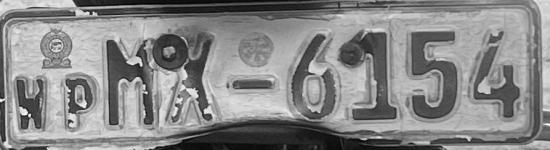-: (233, 80, 275, 90)
1: (352, 31, 398, 120)
4: (474, 28, 521, 117)
5: (412, 33, 459, 119)
6: (291, 31, 340, 122)
M: (106, 40, 158, 125)
P: (65, 74, 97, 128)
W: (17, 78, 46, 130)
X: (166, 33, 214, 125)
